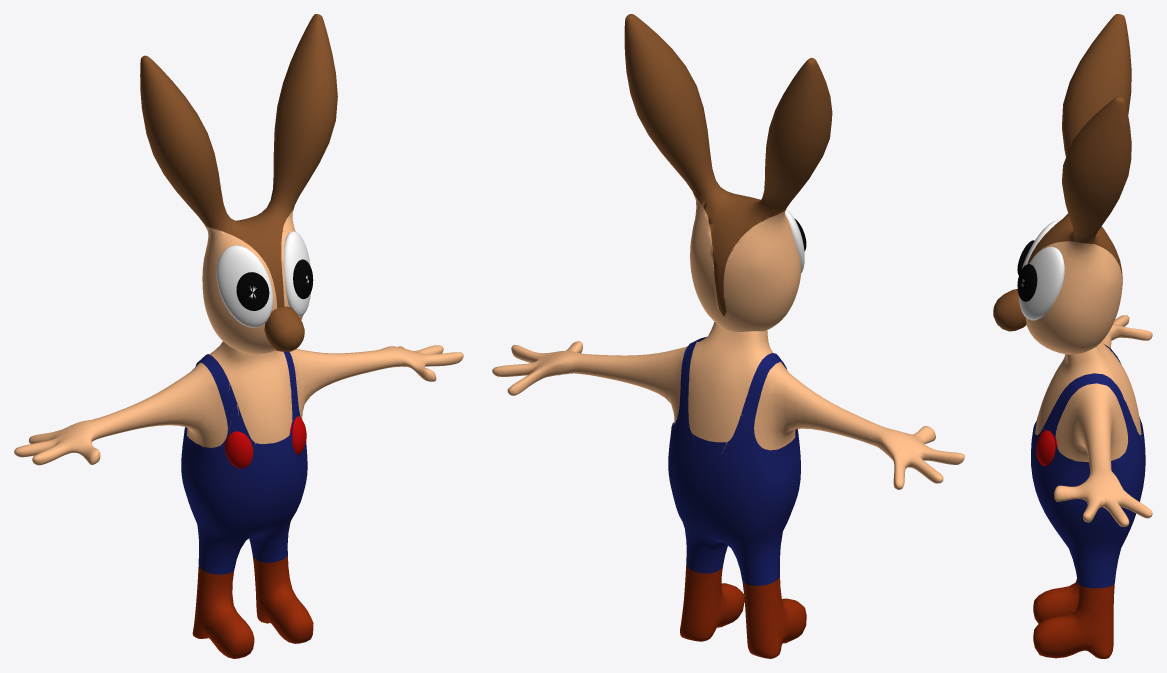
File: kiskis.FBX
3 renders of one model, left to right at view 1: azimuth 30°, elevation 25°; view 2: azimuth 150°, elevation 25°; view 3: azimuth 270°, elevation 25°, orthographic. The views are drawn at different scales.
Visible parts, largest first — view 1: cowboy_rabbit02; view 2: cowboy_rabbit02; view 3: cowboy_rabbit02.
Part boxes in pixels (x1,y1,x2,y2): cowboy_rabbit02: (14,14,463,658); cowboy_rabbit02: (492,14,964,658); cowboy_rabbit02: (993,14,1152,658).
Bounding box in the file's own units: 0.9159 × 1.2 × 0.2955.
